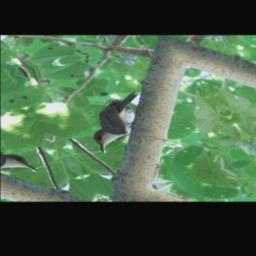Cuckoo: (66, 90, 174, 154)
